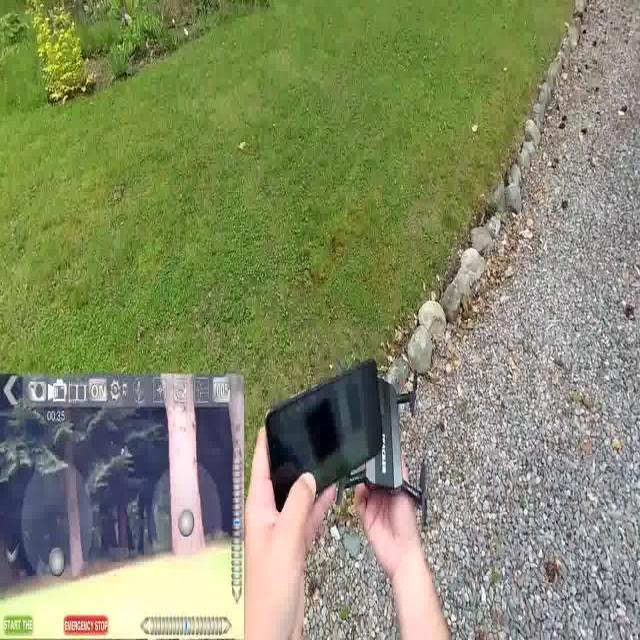drones: (326, 362, 435, 532)
